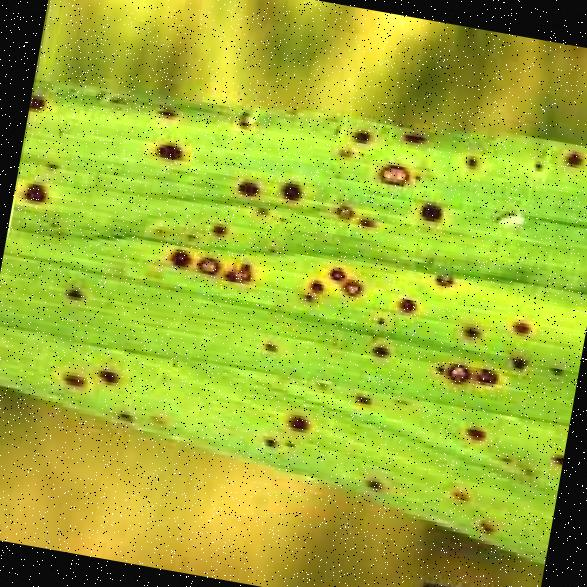Brown_Spot: (430, 469, 511, 539), (373, 139, 414, 190), (142, 128, 194, 168), (52, 356, 95, 404), (360, 321, 403, 369), (492, 440, 540, 480), (214, 246, 255, 291), (445, 310, 491, 346), (334, 191, 378, 227), (458, 138, 492, 184), (418, 174, 449, 222), (549, 137, 587, 176), (270, 167, 304, 210), (438, 345, 472, 388), (297, 260, 329, 304), (275, 395, 315, 430), (26, 80, 57, 124), (348, 382, 388, 416), (16, 172, 55, 206), (390, 284, 426, 320), (500, 343, 535, 380), (162, 238, 193, 276), (336, 262, 367, 300), (88, 359, 124, 390), (55, 276, 96, 302), (232, 164, 264, 197), (397, 114, 429, 147), (230, 100, 260, 134), (504, 297, 530, 336), (322, 245, 350, 281), (194, 249, 226, 279), (251, 423, 281, 454), (252, 328, 282, 358), (536, 349, 566, 379), (110, 398, 140, 426), (458, 414, 490, 438), (361, 468, 386, 488), (354, 122, 368, 140), (156, 103, 176, 113)
